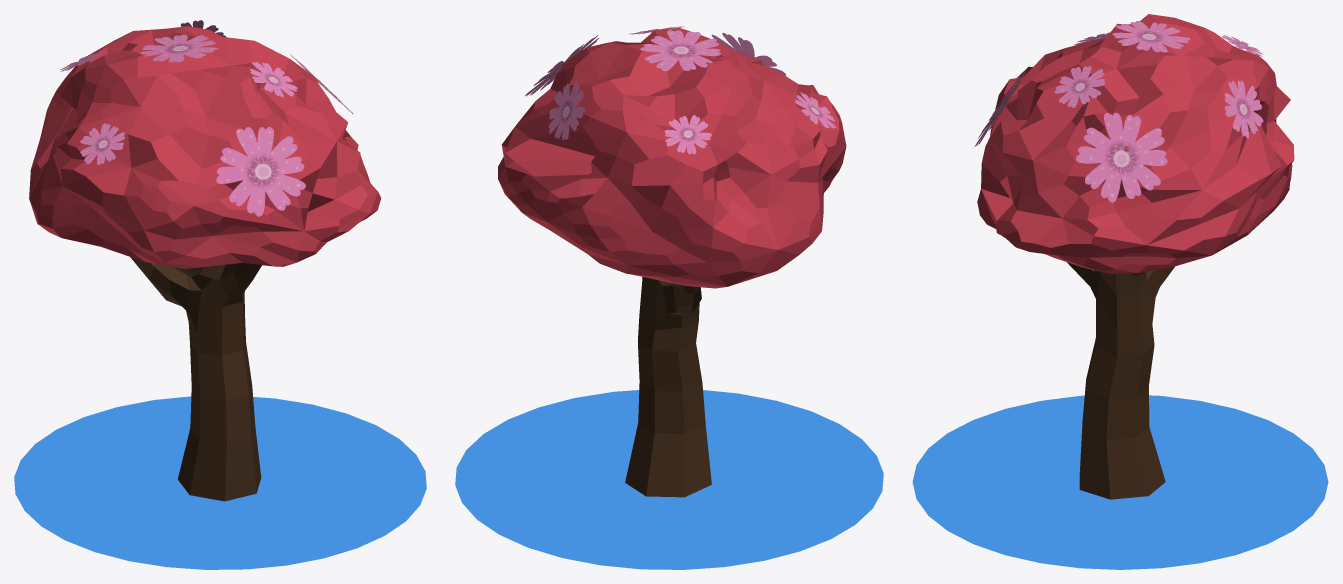
The model's file is TreeRot1.fbx.
3 views of the same model, side by side, from view 1: azimuth 30°, elevation 25°; view 2: azimuth 150°, elevation 25°; view 3: azimuth 270°, elevation 25° (orthographic). The views are drawn at different scales.
Parts seen in each view (by area): view 1: Tree.002; view 2: Tree.002; view 3: Tree.002.
Boxes of the visible parts, x1,y1,x2,y2 form: Tree.002: [14, 20, 426, 569]; Tree.002: [455, 26, 883, 569]; Tree.002: [912, 14, 1328, 569].
Bounding box in the file's own units: 586 × 681 × 586.
